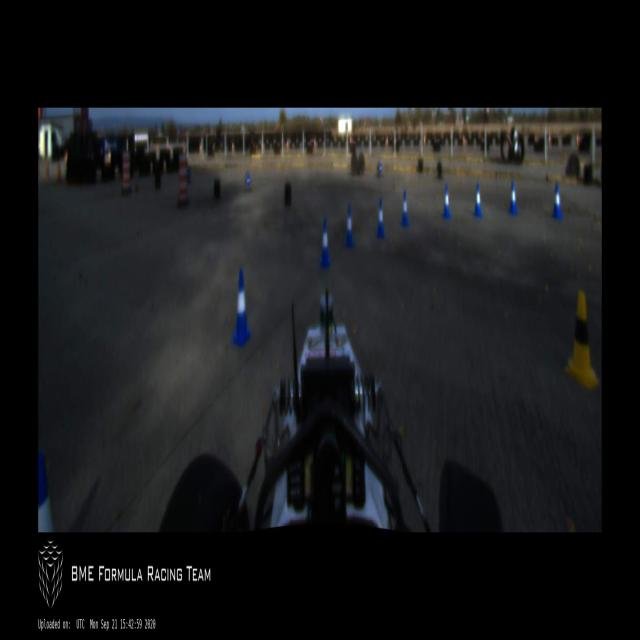blue_cone: (233, 270, 250, 346), (319, 218, 331, 268), (344, 204, 355, 248), (376, 199, 386, 239), (473, 182, 483, 218), (552, 182, 562, 218), (400, 191, 409, 227), (442, 184, 451, 219), (508, 184, 518, 213)
yellow_cone: (567, 292, 599, 388)
